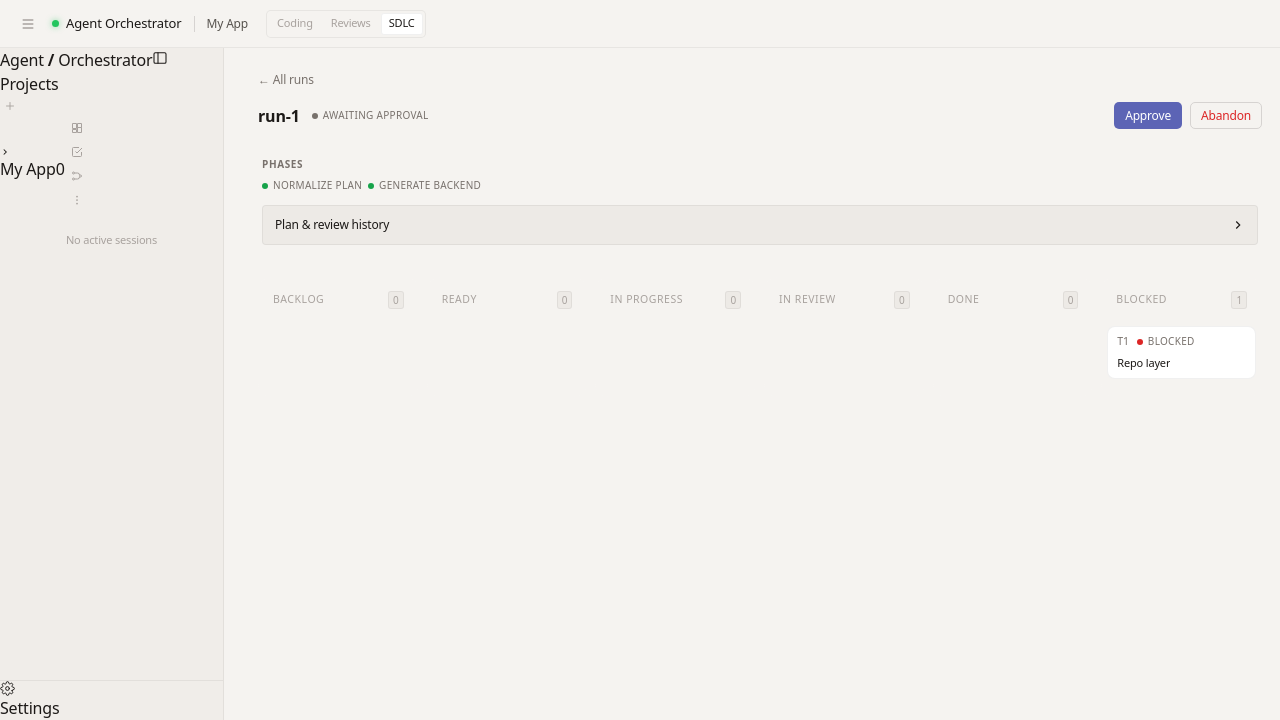
SdlcRunDetail › opens the plan modal from the plan entry, rendering the plan + lens history
Click the button "Plan & review history" at (332, 224), box 262,205 -> 1258,245
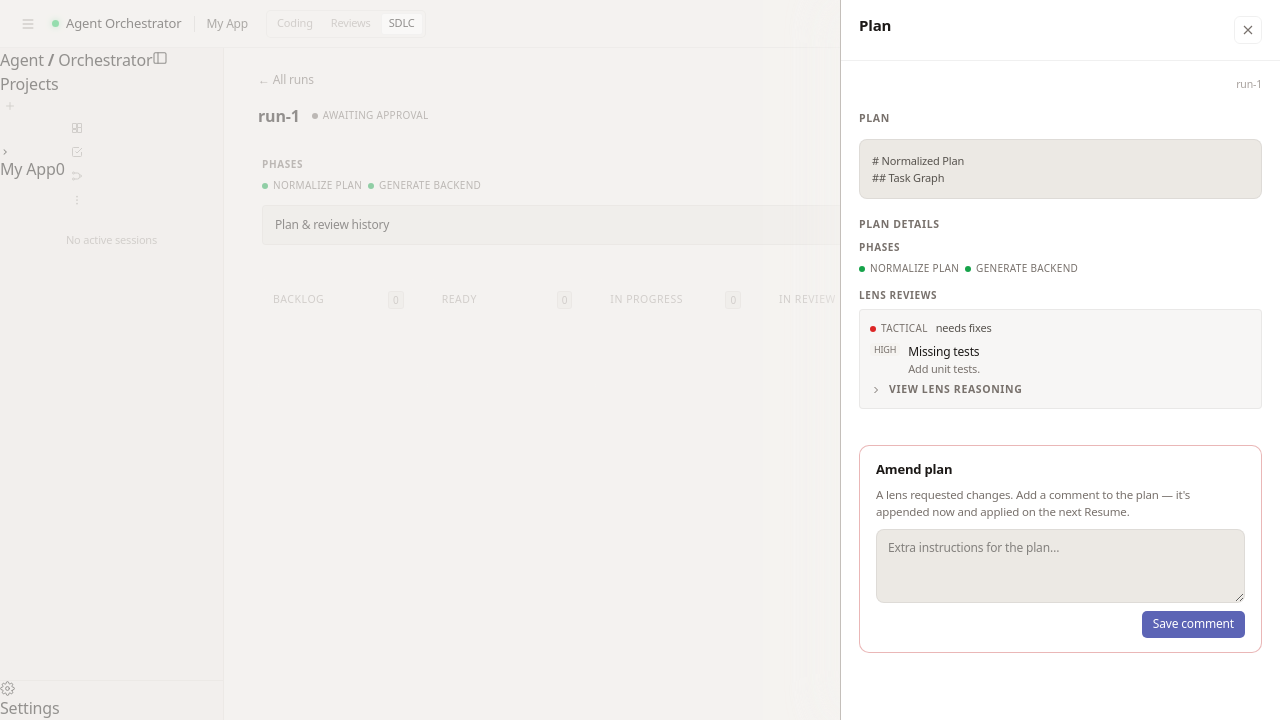
Expected: the dialog named "Plan for run-1" is shown, 840,0 -> 1279,719
Expected: the text "# Normalized Plan ## Task Graph" is shown, 859,138 -> 1262,199
Expected: the text "tactical" is shown, 870,321 -> 928,336
